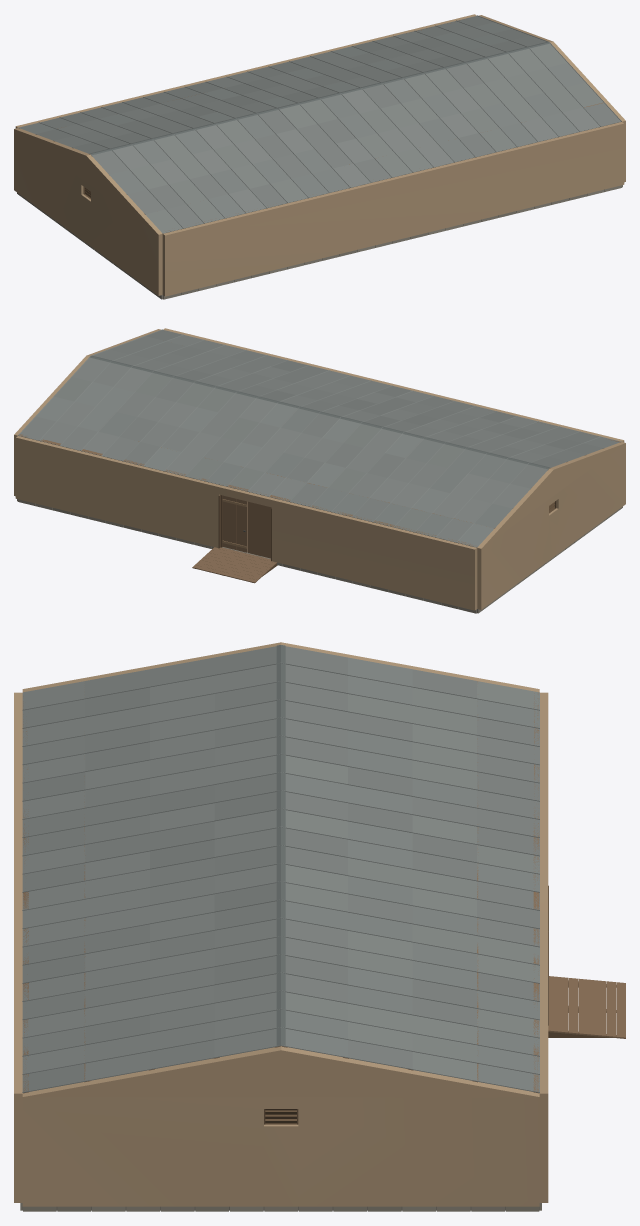
The model's file is bld_02.glb.
3 renders of one model, top to bottom at view 1: azimuth 30°, elevation 25°; view 2: azimuth 150°, elevation 25°; view 3: azimuth 270°, elevation 25°, orthographic. The views are drawn at different scales.
Visible parts, largest first — view 1: shell__detail_vertex_roof, shell__detail_vertex_adobe_finish, shell__detail_vertex_adobe, shell__detail_vertex_stone, shell__detail_vertex_roof_edge; view 2: shell__detail_vertex_roof, shell__detail_vertex_adobe_finish, shell__detail_vertex_adobe, shell__detail_vertex_wood, shell__detail_vertex_roof_edge, shell__detail_vertex_stone, outer_0_1__detail_vertex_wood, outer_0_0__detail_vertex_wood; view 3: shell__detail_vertex_roof, shell__detail_vertex_adobe_finish, shell__detail_vertex_adobe, shell__detail_vertex_wood, shell__detail_vertex_roof_edge, shell__detail_vertex_stone.
Part boxes in pixels (x1,y1,x2,y2): shell__detail_vertex_roof: (18,15,621,233); shell__detail_vertex_adobe_finish: (14,14,625,296); shell__detail_vertex_adobe: (14,15,625,234); shell__detail_vertex_stone: (17,185,622,299); shell__detail_vertex_roof_edge: (89,41,621,233); shell__detail_vertex_roof: (18,329,621,547); shell__detail_vertex_adobe_finish: (14,328,625,610); shell__detail_vertex_adobe: (14,329,625,548); shell__detail_vertex_wood: (19,349,620,583); shell__detail_vertex_roof_edge: (18,355,549,547); shell__detail_vertex_stone: (17,499,622,613); outer_0_1__detail_vertex_wood: (222,495,247,552); outer_0_0__detail_vertex_wood: (248,501,271,558); shell__detail_vertex_roof: (22,646,539,1092); shell__detail_vertex_adobe_finish: (14,692,548,1206); shell__detail_vertex_adobe: (22,642,539,1097); shell__detail_vertex_wood: (23,681,625,1124); shell__detail_vertex_roof_edge: (276,645,285,1045); shell__detail_vertex_stone: (20,1203,541,1211).
Size of the model in its own units: 22.4 by 4.27 by 14.2.
